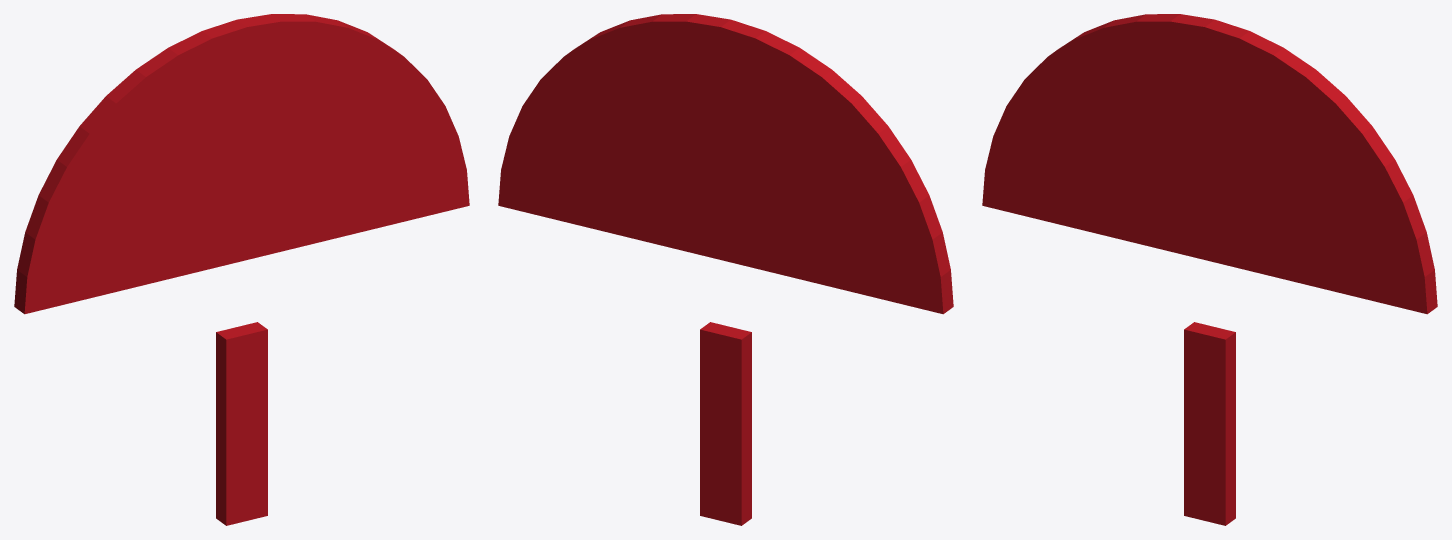
Rendered from UchihaFanRed.fbx.
The picture shows the model from 3 angles, left to right: view 1: azimuth 30°, elevation 25°; view 2: azimuth 150°, elevation 25°; view 3: azimuth 330°, elevation 25°; orthographic projection.
Visible parts, largest first — view 1: FanTop.001; view 2: FanTop.001; view 3: FanTop.001.
Boxes of the visible parts, bbox=[...] form: FanTop.001: bbox=[14, 14, 469, 525]; FanTop.001: bbox=[498, 14, 953, 525]; FanTop.001: bbox=[982, 14, 1437, 525].
Size of the model in its own units: 1500 by 1590 by 60.
